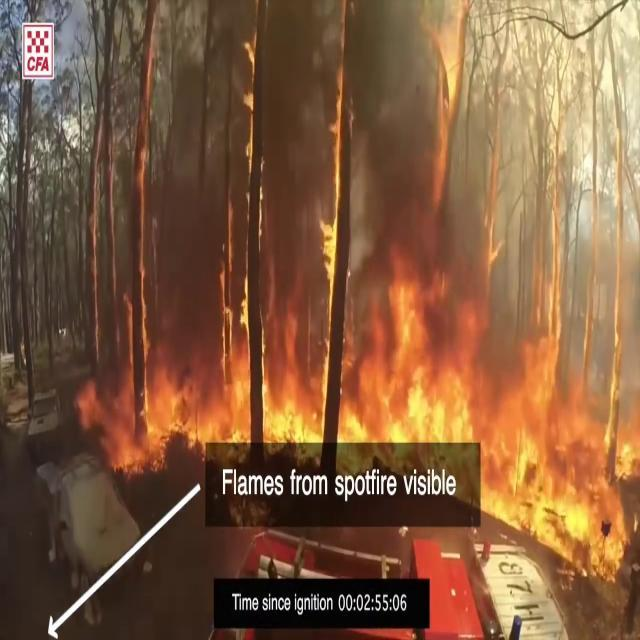Fire: (483, 288, 640, 560), (264, 278, 478, 446), (106, 273, 243, 478)
Smoke: (99, 0, 639, 292)
